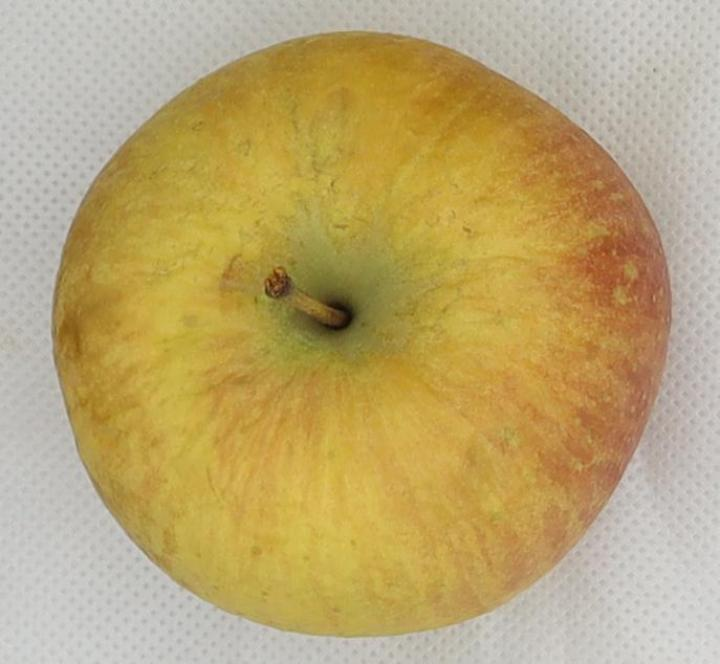apple: (53, 32, 670, 635)
